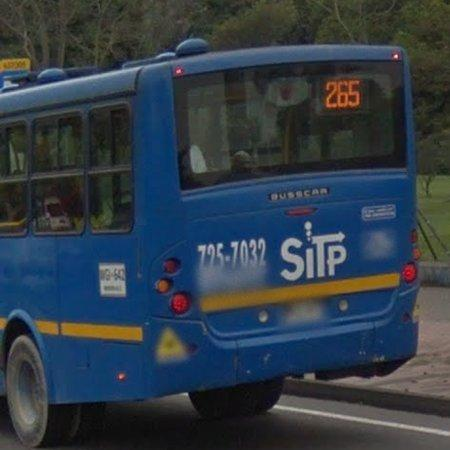buses: (0, 40, 420, 448)
